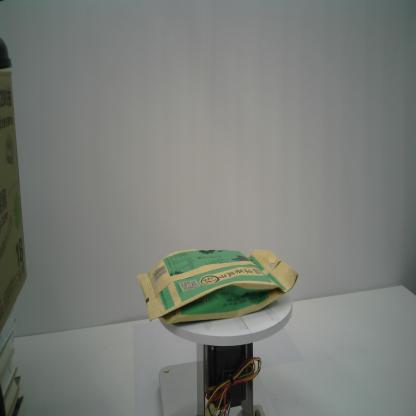Dried Food: (136, 247, 300, 326)
